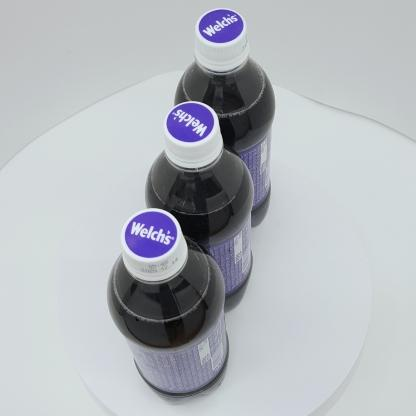-------500ml: (106, 208, 230, 406), (144, 101, 254, 315), (173, 8, 276, 228)
